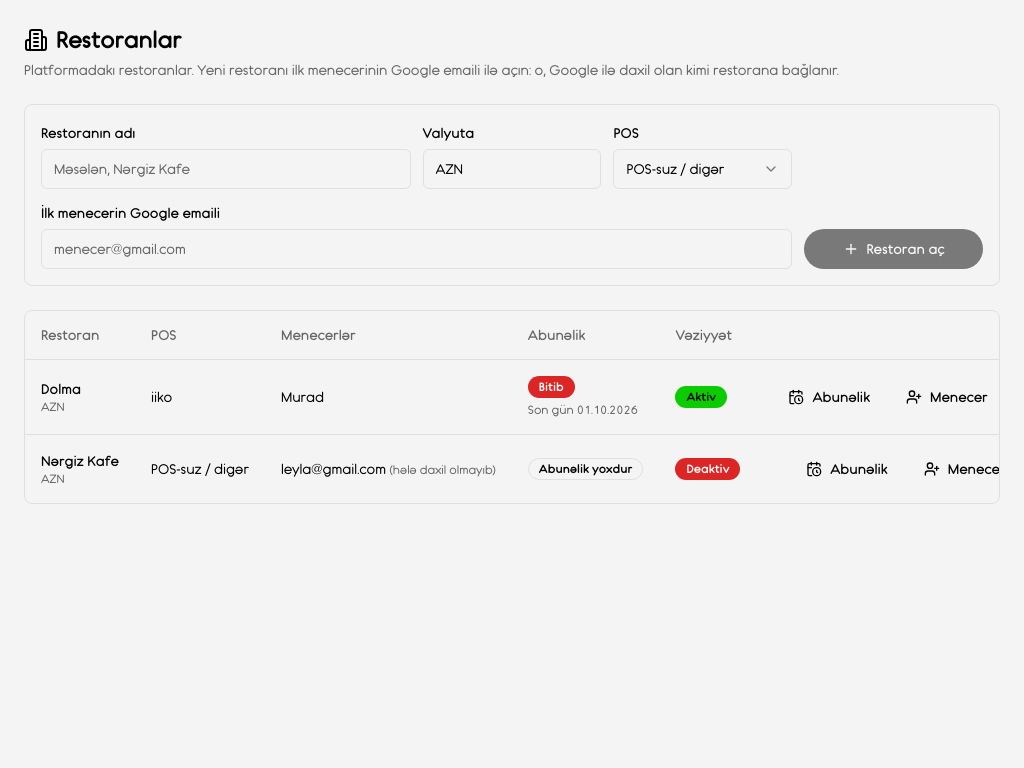
Test: RestaurantsPage (#147, #148) › refuses a last day before the first day
Click the button with aria-label "Dolma abunəlik": (829, 396) [772,378,886,414]
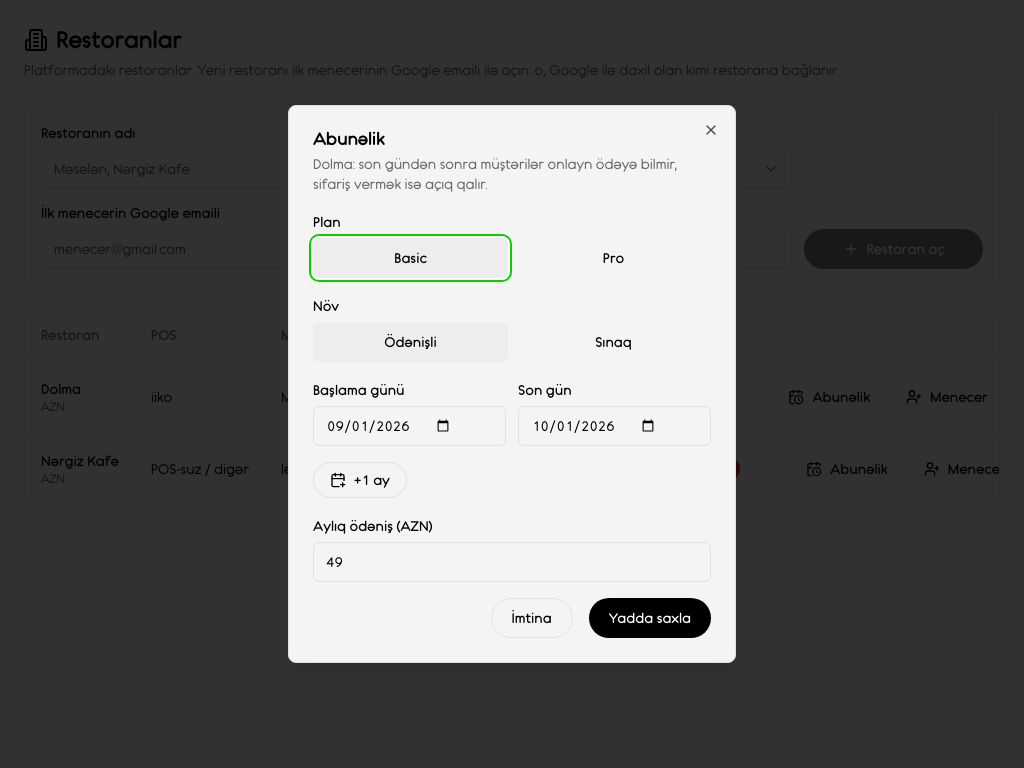
In the date field labelled "Son gün": (614, 426) [518,406,711,446], type "2026-08-31"
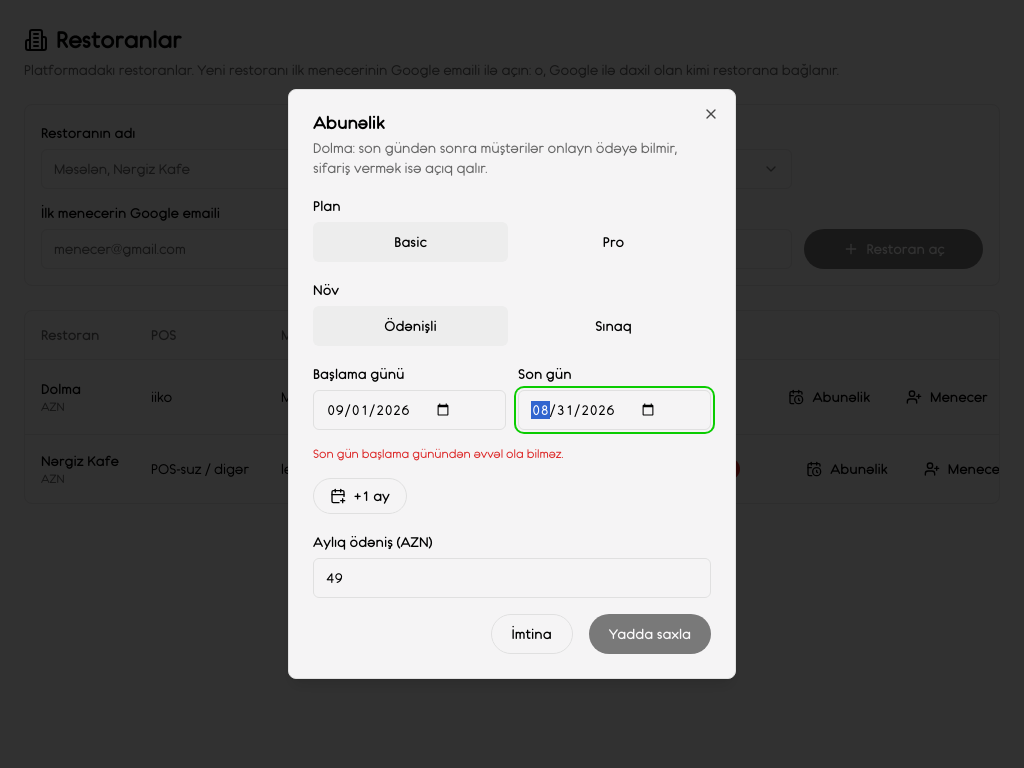
Expected: the button "Yadda saxla" is disabled, [589,614,711,654]
Expected: the text "Son gün başlama günündən əvvəl ola bilməz." is shown, [313,446,563,461]
